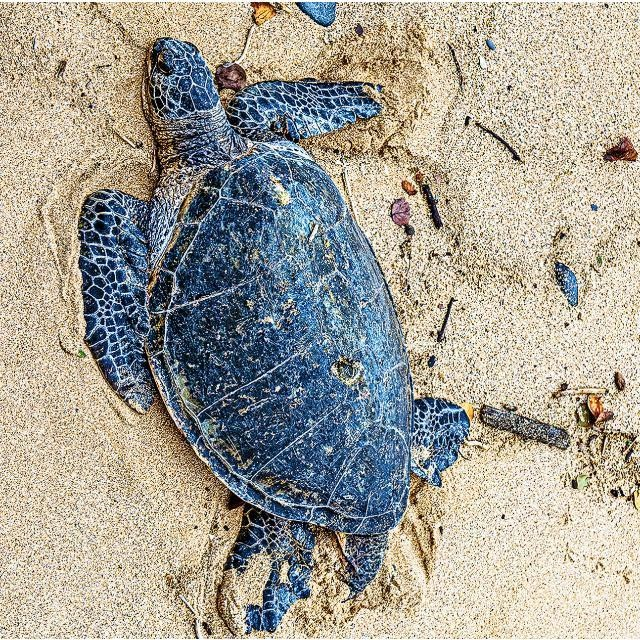turtle: (79, 33, 472, 632)
